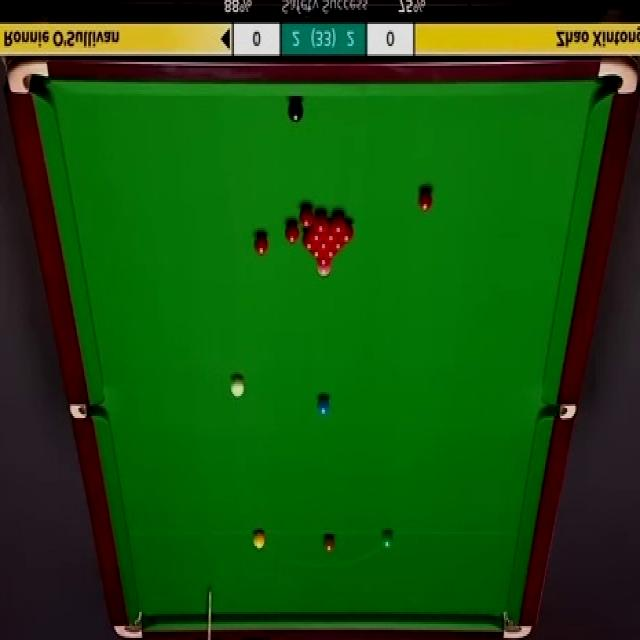black-ball: (287, 102, 303, 124)
blue-ball: (316, 398, 331, 415)
brown-ball: (323, 533, 335, 552)
green-ball: (380, 530, 395, 552)
pink-ball: (317, 262, 332, 276)
red-ball: (417, 190, 434, 214), (329, 212, 347, 233), (316, 213, 331, 235), (337, 222, 352, 244), (300, 205, 313, 230), (253, 235, 269, 255), (284, 223, 298, 243), (325, 221, 338, 242), (304, 239, 315, 251), (318, 238, 329, 250), (318, 253, 328, 265)
white-ball: (230, 376, 247, 399)
yellow-ball: (253, 530, 265, 550)
